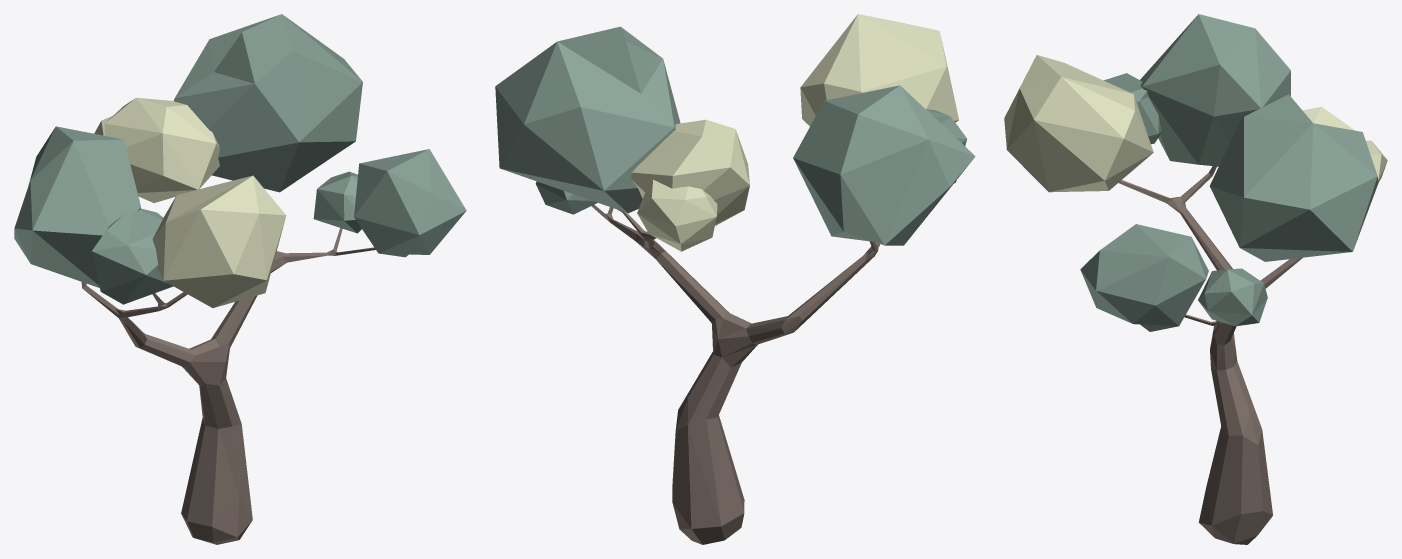
The model's file is low poly tree V4.fbx.
3 renders of one model, left to right at view 1: azimuth 30°, elevation 25°; view 2: azimuth 150°, elevation 25°; view 3: azimuth 270°, elevation 25°, orthographic. The views are drawn at different scales.
Parts seen in each view (by area): view 1: Leaves 1.002, Tree stump, Leaves 11.001, Leaves 10.001, Leaves 1.001, Leaves 2.001, Leaves 11.002, Leaves 6.001; view 2: Leaves 1.002, Leaves 11.001, Tree stump, Leaves 10.001, Leaves 2.001, Leaves 9.001, Leaves 6.001; view 3: Leaves 1.002, Leaves 10.001, Leaves 11.001, Tree stump, Leaves 1.001, Leaves 6.001, Leaves 11.002, Leaves 2.001.
Part boxes in pixels (box(x1,y1,x2,y2)): Leaves 1.002: box(173, 14, 362, 192); Tree stump: box(81, 228, 375, 544); Leaves 11.001: box(14, 126, 140, 287); Leaves 10.001: box(152, 175, 286, 307); Leaves 1.001: box(354, 149, 466, 257); Leaves 2.001: box(104, 97, 219, 202); Leaves 11.002: box(91, 208, 173, 304); Leaves 6.001: box(313, 171, 361, 233); Leaves 1.002: box(495, 26, 680, 213); Leaves 11.001: box(793, 85, 975, 245); Tree stump: box(591, 204, 879, 544); Leaves 10.001: box(800, 14, 958, 125); Leaves 2.001: box(631, 119, 749, 225); Leaves 9.001: box(637, 179, 717, 251); Leaves 6.001: box(535, 181, 597, 214); Leaves 1.002: box(1209, 94, 1378, 261); Leaves 10.001: box(1004, 55, 1153, 192); Leaves 11.001: box(1140, 14, 1290, 166); Tree stump: box(1118, 166, 1302, 544); Leaves 1.001: box(1080, 224, 1208, 331); Leaves 6.001: box(1198, 268, 1267, 326); Leaves 11.002: box(1103, 73, 1161, 144); Leaves 2.001: box(1302, 106, 1354, 130).
Size of the model in its own units: 882 by 978 by 722.
